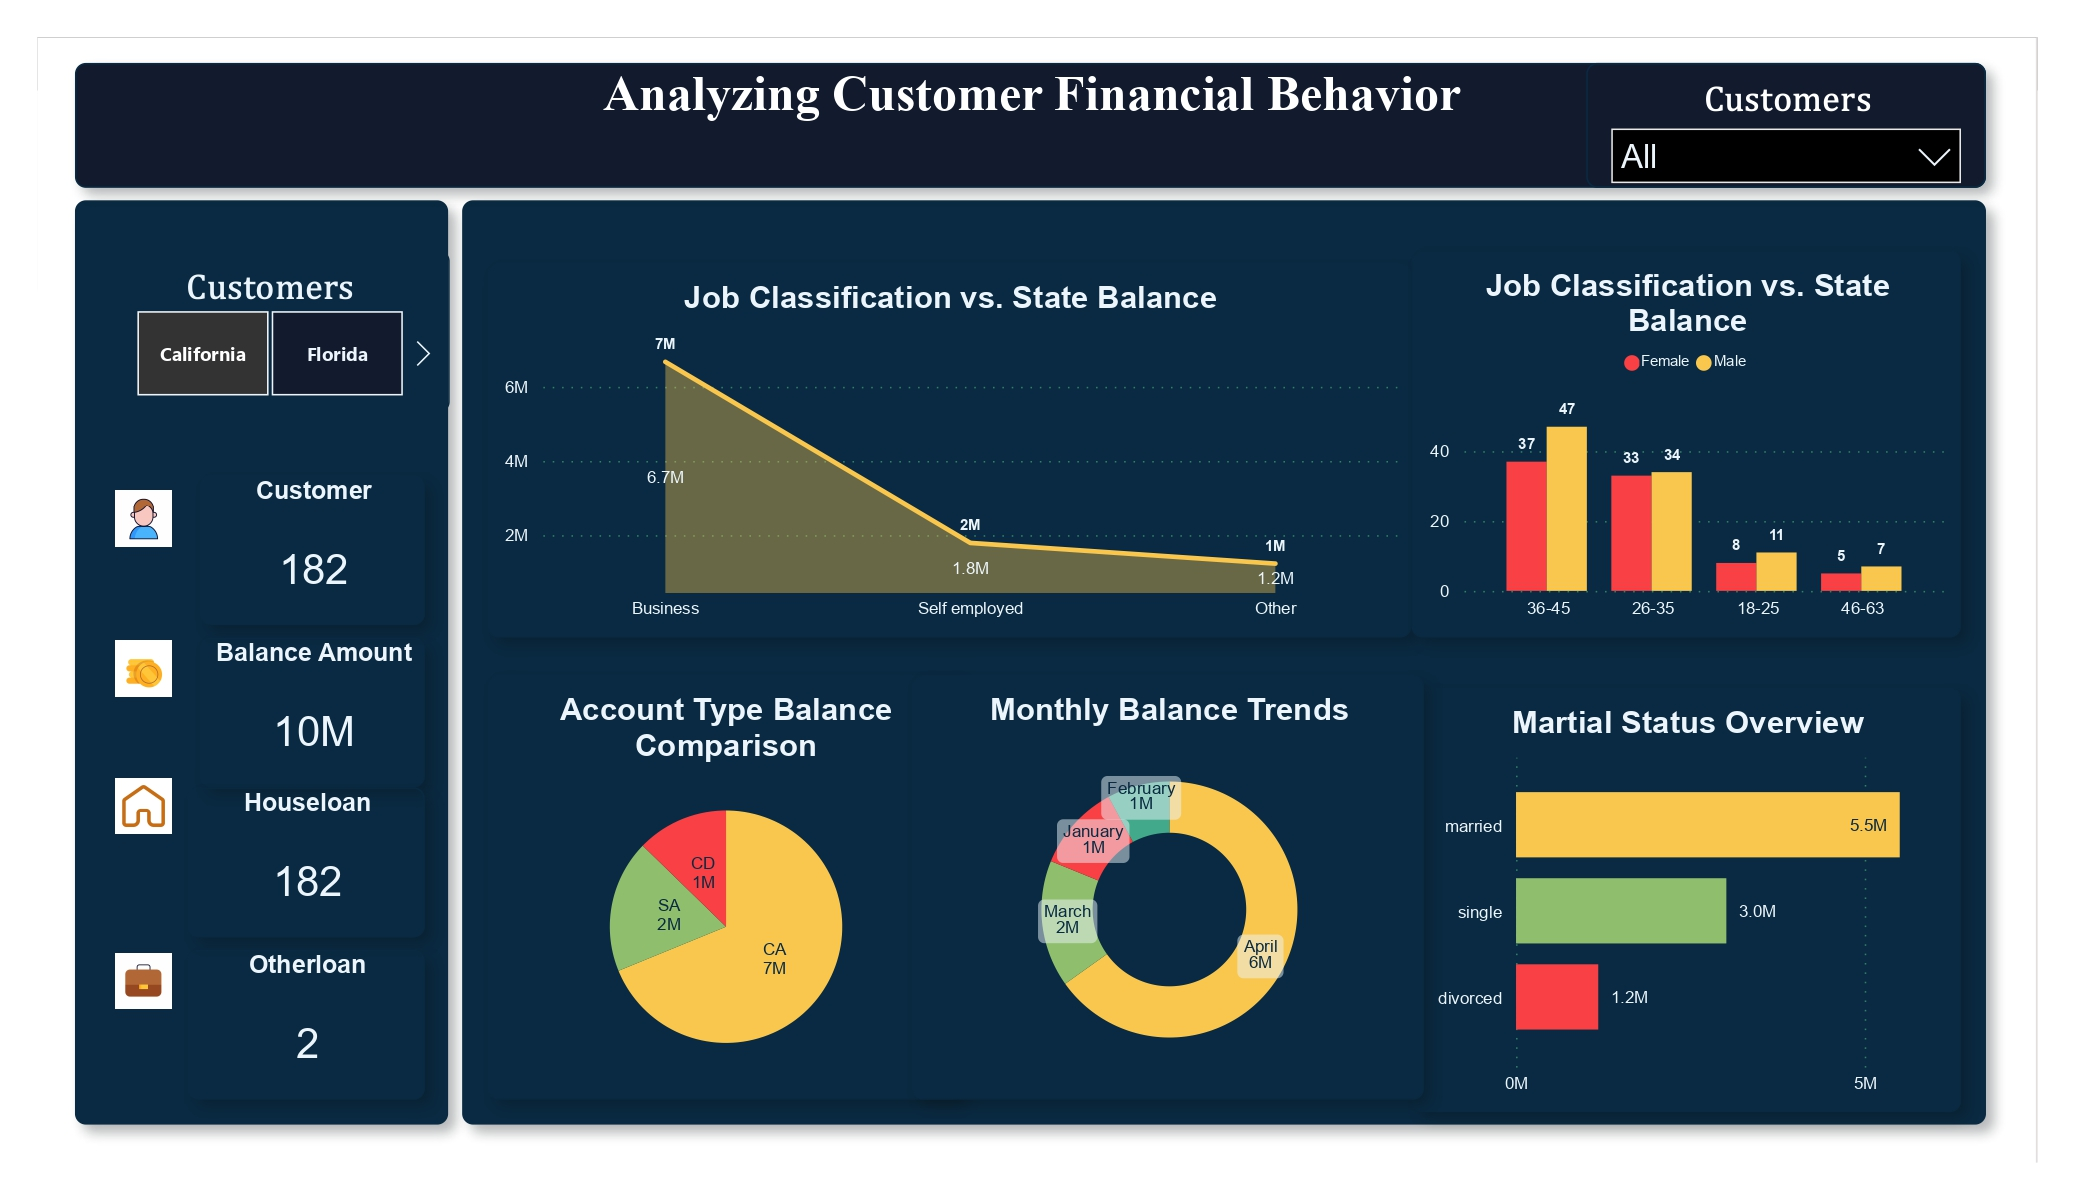

The dashboard page shown, as its layout file describes it:
{"tool":"powerbi","page":{"name":"Bank_insights","canvas":[1280,720],"ordinal":0},"visuals":[{"type":"shape","box":[24,104,239,592],"z":0},{"type":"shape","box":[272,104,976,592],"z":1000},{"type":"textbox","box":[24,16,1224,80],"z":2000},{"type":"slicer","title":"Customers","fields":{"Values":["Customer_Bank_Details.Full Name"]},"box":[992,16,256,80],"z":3000},{"type":"slicer","title":"Customers","fields":{"Values":["Customer_Bank_Details.State"]},"box":[32,136,232,104],"z":4000},{"type":"card","title":"Customer","fields":{"Values":["Count(Customer_Bank_Details.Customer ID)"]},"box":[104,280,144,96],"z":5000},{"type":"card","title":"Balance Amount","fields":{"Values":["Sum(Customer_Bank_Details.Balance Amount)"]},"box":[104,384,144,96],"z":6000},{"type":"card","title":"Houseloan","fields":{"Values":["CountNonNull(Customer_Bank_Details.Houseloan)"]},"box":[96,480,152,96],"z":7000},{"type":"card","title":"Otherloan","fields":{"Values":["Count(Customer_Bank_Details.Otherloan)"]},"box":[96,584,152,96],"z":8000},{"type":"stackedAreaChart","title":"Job Classification vs. State Balance","fields":{"Category":["Customer_Bank_Details.Job Classification"],"Y":["Sum(Customer_Bank_Details.Balance Amount)"],"Series":["Customer_Bank_Details.State"]},"box":[288,144,592,240],"z":9000},{"type":"clusteredColumnChart","title":"Job Classification vs. State Balance","fields":{"Category":["Customer_Bank_Details.Age groups"],"Y":["CountNonNull(Customer_Bank_Details.Customer ID)"],"Series":["Customer_Bank_Details.Gender"]},"box":[880,136,352,248],"z":10000},{"type":"barChart","title":"Martial Status Overview","fields":{"Category":["Customer_Bank_Details.Marital Status "],"Y":["Sum(Customer_Bank_Details.Balance Amount)"]},"box":[880,416,352,272],"z":11000},{"type":"pieChart","title":"Account Type Balance Comparison","fields":{"Category":["Customer_Bank_Details.Account Type"],"Y":["Sum(Customer_Bank_Details.Balance Amount)"]},"box":[288,408,304,272],"z":12000},{"type":"donutChart","title":"Monthly Balance Trends","fields":{"Category":["Customer_Bank_Details.Month Name"],"Y":["Sum(Customer_Bank_Details.Balance Amount)"]},"box":[560,408,328,272],"z":13000},{"type":"image","box":[40,280,56,56],"z":14000},{"type":"image","box":[40,464,56,56],"z":15000},{"type":"image","box":[40,576,56,56],"z":16000},{"type":"image","box":[40,376,56,56],"z":17000}]}

Visuals, with their boxes on the page's 1280x720 design canvas (x1, y1, x2, y2). These are canvas units, not pixel positions in the 2075x1200 screenshot, which may show the page scaled, cropped or inside an application window:
shape: (left=24, top=104, right=263, bottom=696)
shape: (left=272, top=104, right=1248, bottom=696)
textbox: (left=24, top=16, right=1248, bottom=96)
"Customers" slicer: (left=992, top=16, right=1248, bottom=96)
"Customers" slicer: (left=32, top=136, right=264, bottom=240)
"Customer" card: (left=104, top=280, right=248, bottom=376)
"Balance Amount" card: (left=104, top=384, right=248, bottom=480)
"Houseloan" card: (left=96, top=480, right=248, bottom=576)
"Otherloan" card: (left=96, top=584, right=248, bottom=680)
"Job Classification vs. State Balance" stackedAreaChart: (left=288, top=144, right=880, bottom=384)
"Job Classification vs. State Balance" clusteredColumnChart: (left=880, top=136, right=1232, bottom=384)
"Martial Status Overview" barChart: (left=880, top=416, right=1232, bottom=688)
"Account Type Balance Comparison" pieChart: (left=288, top=408, right=592, bottom=680)
"Monthly Balance Trends" donutChart: (left=560, top=408, right=888, bottom=680)
image: (left=40, top=280, right=96, bottom=336)
image: (left=40, top=464, right=96, bottom=520)
image: (left=40, top=576, right=96, bottom=632)
image: (left=40, top=376, right=96, bottom=432)
